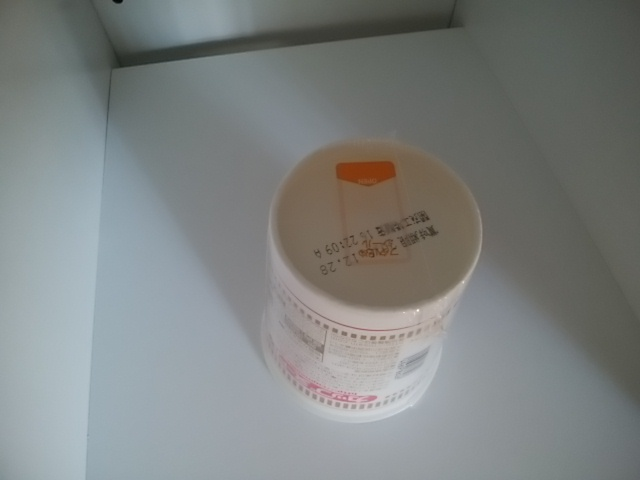cup-ramen: (257, 129, 493, 423)
